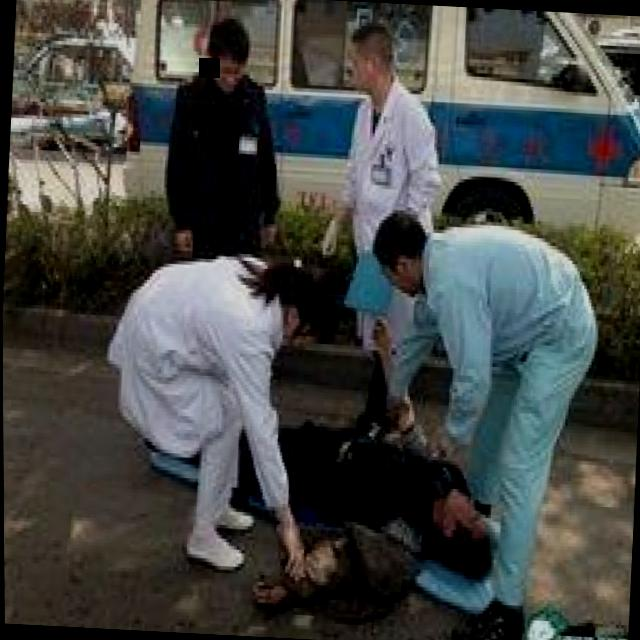Fall-Detected: (195, 366, 508, 614)
